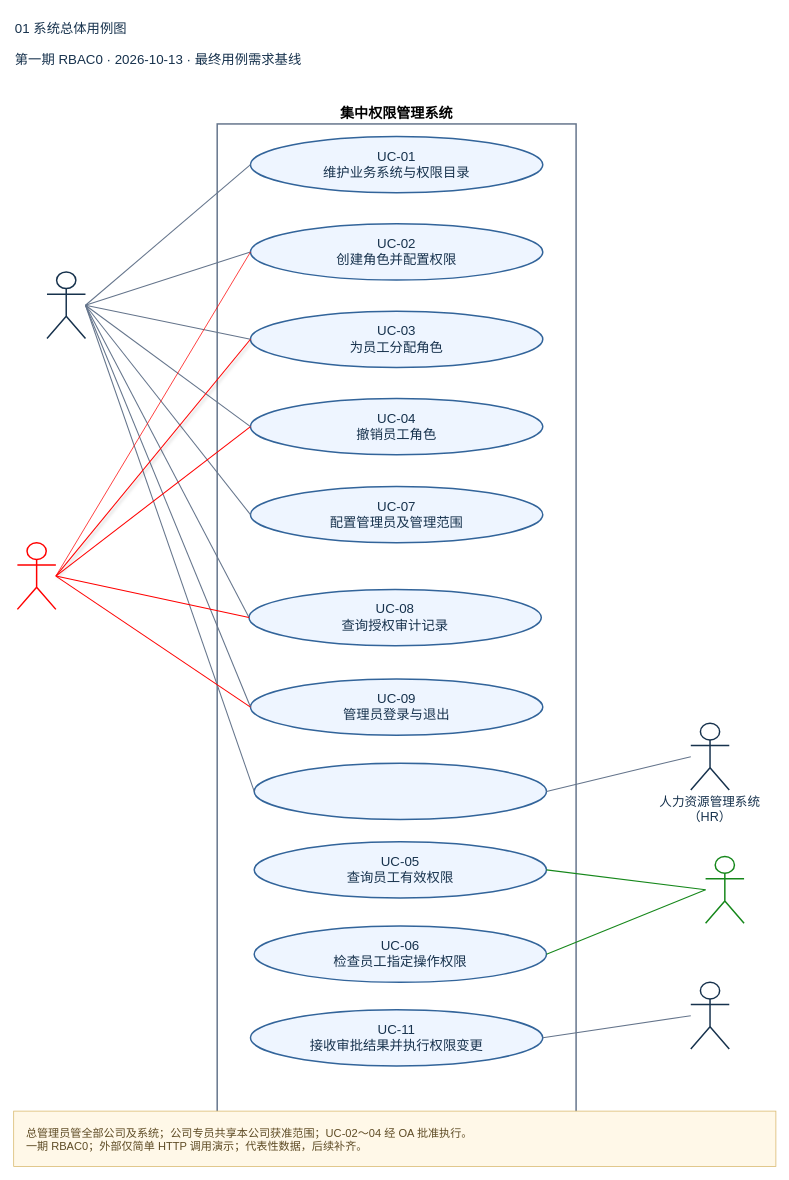
This 789x1180 diagram has some shape labels left out. Each missing label, with the centre of its shape:
OA 协同办公系统: the point at 710,1015
UC-10 导入／同步员工组织信息: the point at 400,791
业务系统: the point at 724,889
公司权限 管理专员: the point at 36,576
权限中心总管理员: the point at 66,305
